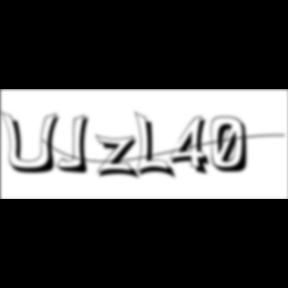0: (210, 115, 256, 174)
4: (170, 115, 216, 179)
J: (57, 114, 96, 176)
L: (135, 110, 179, 182)
U: (0, 110, 66, 176)
z: (96, 134, 144, 182)
